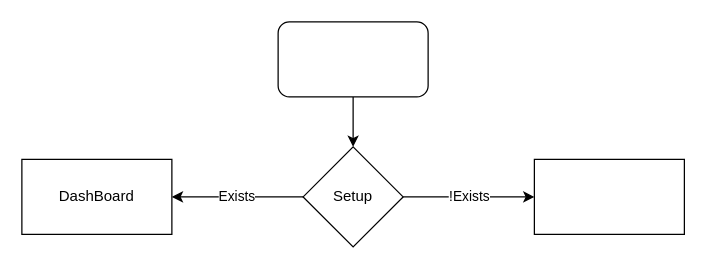
Some shapes in this 706 by 269 pixel diagram are drawn without their labels. The box of each missing label's shape, as (x1, y1, x2, y2) in pixels:
Admin Login: (277, 21, 428, 97)
Setup Page: (533, 158, 684, 234)
